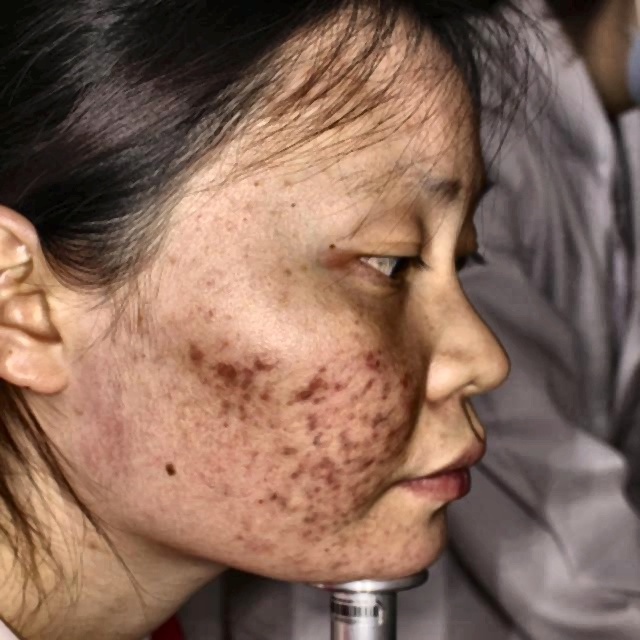pustule: (207, 358, 235, 396), (347, 438, 376, 472), (281, 509, 317, 535), (235, 353, 267, 380), (179, 344, 205, 376), (290, 376, 322, 402), (290, 455, 326, 476), (331, 468, 357, 486), (353, 349, 371, 371)
